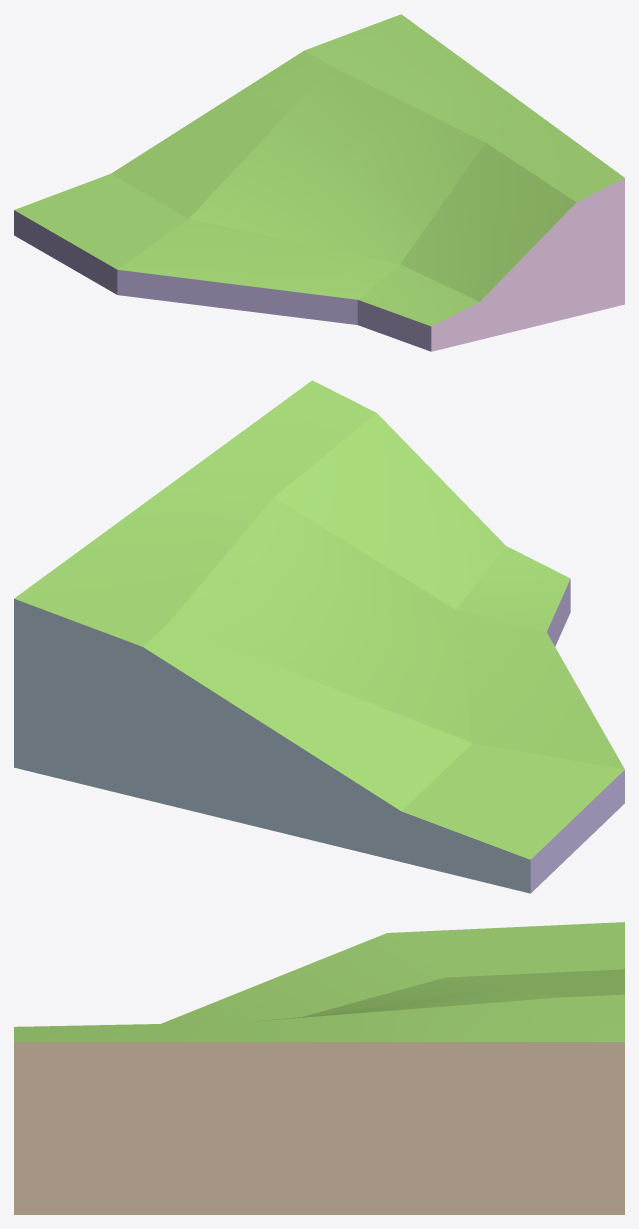
File: Grass_Hill_Grade_Transition_Straight_Rear_3x4.glb
The picture shows the model from 3 angles, top to bottom: view 1: azimuth 30°, elevation 25°; view 2: azimuth 150°, elevation 25°; view 3: azimuth 270°, elevation 25°; orthographic projection. The views are drawn at different scales.
Visible parts, largest first — view 1: Grass_Hill_Grade_Transition_Straight_Rear_3x4; view 2: Grass_Hill_Grade_Transition_Straight_Rear_3x4; view 3: Grass_Hill_Grade_Transition_Straight_Rear_3x4.
Boxes of the visible parts, x1,y1,x2,y2 form: Grass_Hill_Grade_Transition_Straight_Rear_3x4: [14, 14, 624, 351]; Grass_Hill_Grade_Transition_Straight_Rear_3x4: [14, 380, 624, 893]; Grass_Hill_Grade_Transition_Straight_Rear_3x4: [14, 922, 624, 1214].
Bounding box in the file's own units: 400 × 125 × 400.
